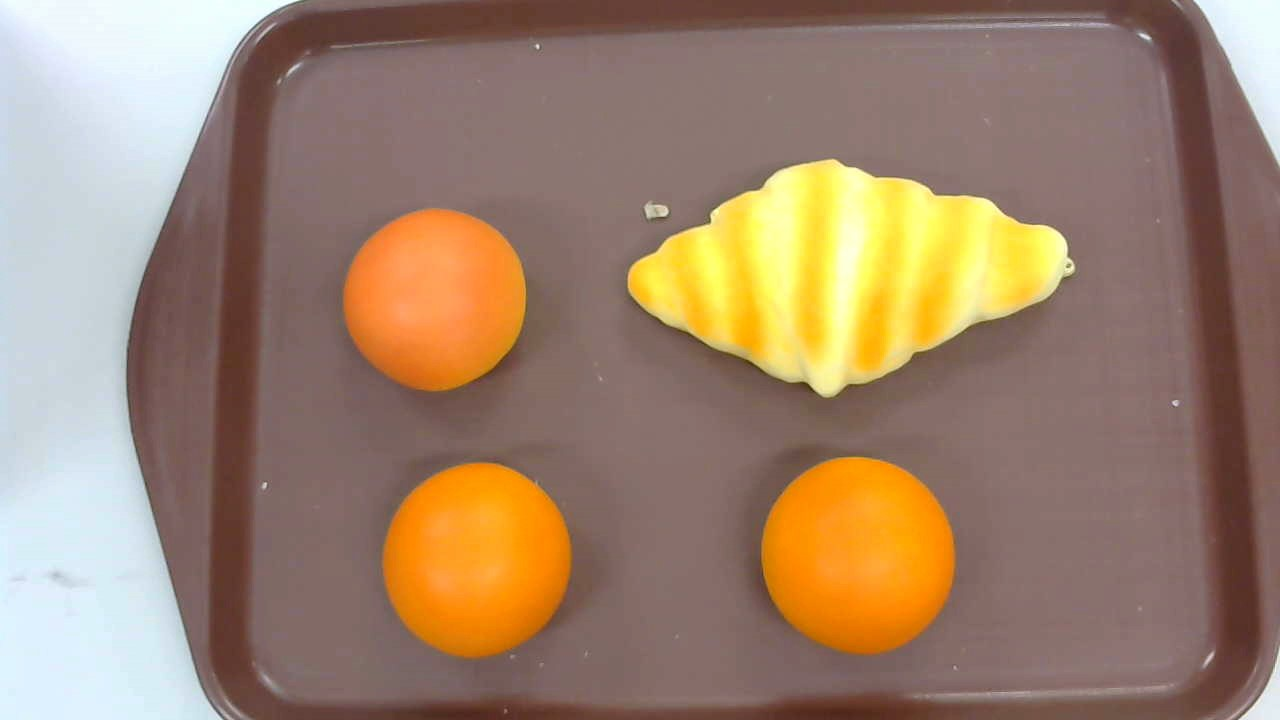bun: (760, 455, 955, 655), (382, 462, 572, 658), (342, 208, 527, 391)
croissant: (625, 159, 1075, 399)
